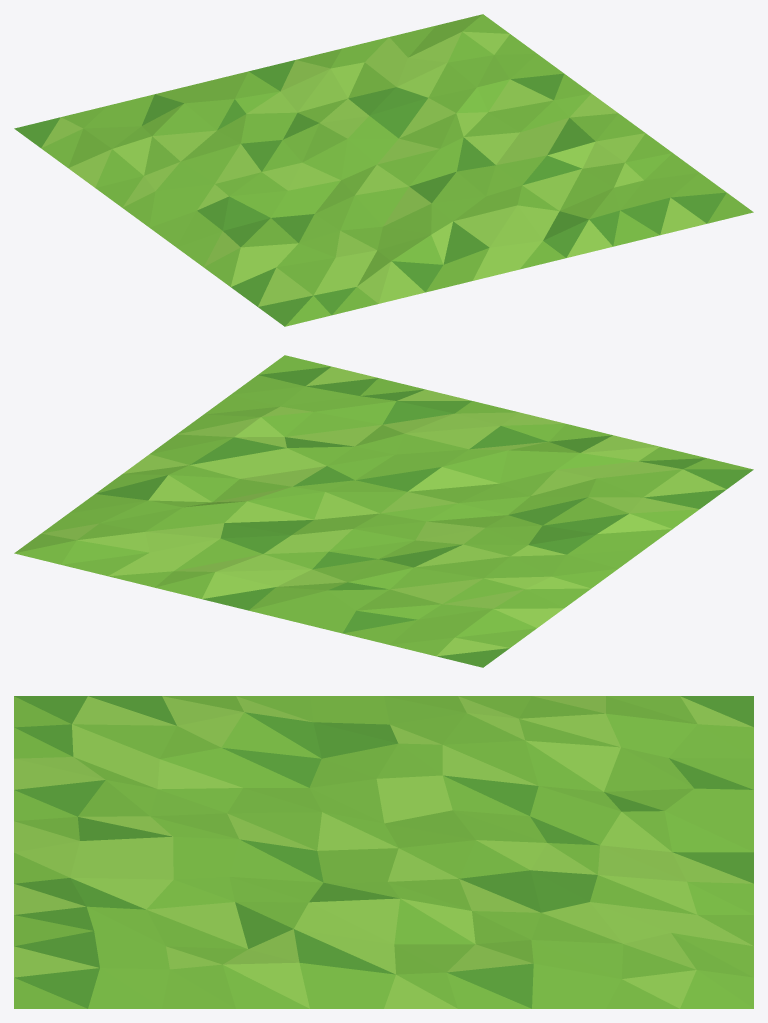
File: terreno_tile_20m_v2.glb
The picture shows the model from 3 angles, top to bottom: view 1: azimuth 30°, elevation 25°; view 2: azimuth 150°, elevation 25°; view 3: azimuth 270°, elevation 25°; orthographic projection. The views are drawn at different scales.
Visible parts, largest first — view 1: terreno_pasto, terreno_pasto_claro, terreno_pasto_oscuro; view 2: terreno_pasto, terreno_pasto_claro, terreno_pasto_oscuro; view 3: terreno_pasto, terreno_pasto_claro, terreno_pasto_oscuro.
Boxes of the visible parts, x1,y1,x2,y2 form: terreno_pasto: (41,14,753,326); terreno_pasto_claro: (41,31,706,306); terreno_pasto_oscuro: (14,60,726,326); terreno_pasto: (14,355,753,656); terreno_pasto_claro: (42,366,725,656); terreno_pasto_oscuro: (96,366,753,667); terreno_pasto: (14,696,753,1008); terreno_pasto_claro: (14,696,753,1008); terreno_pasto_oscuro: (14,696,753,1008).
Size of the model in its own units: 20 by 0.3493 by 20.
